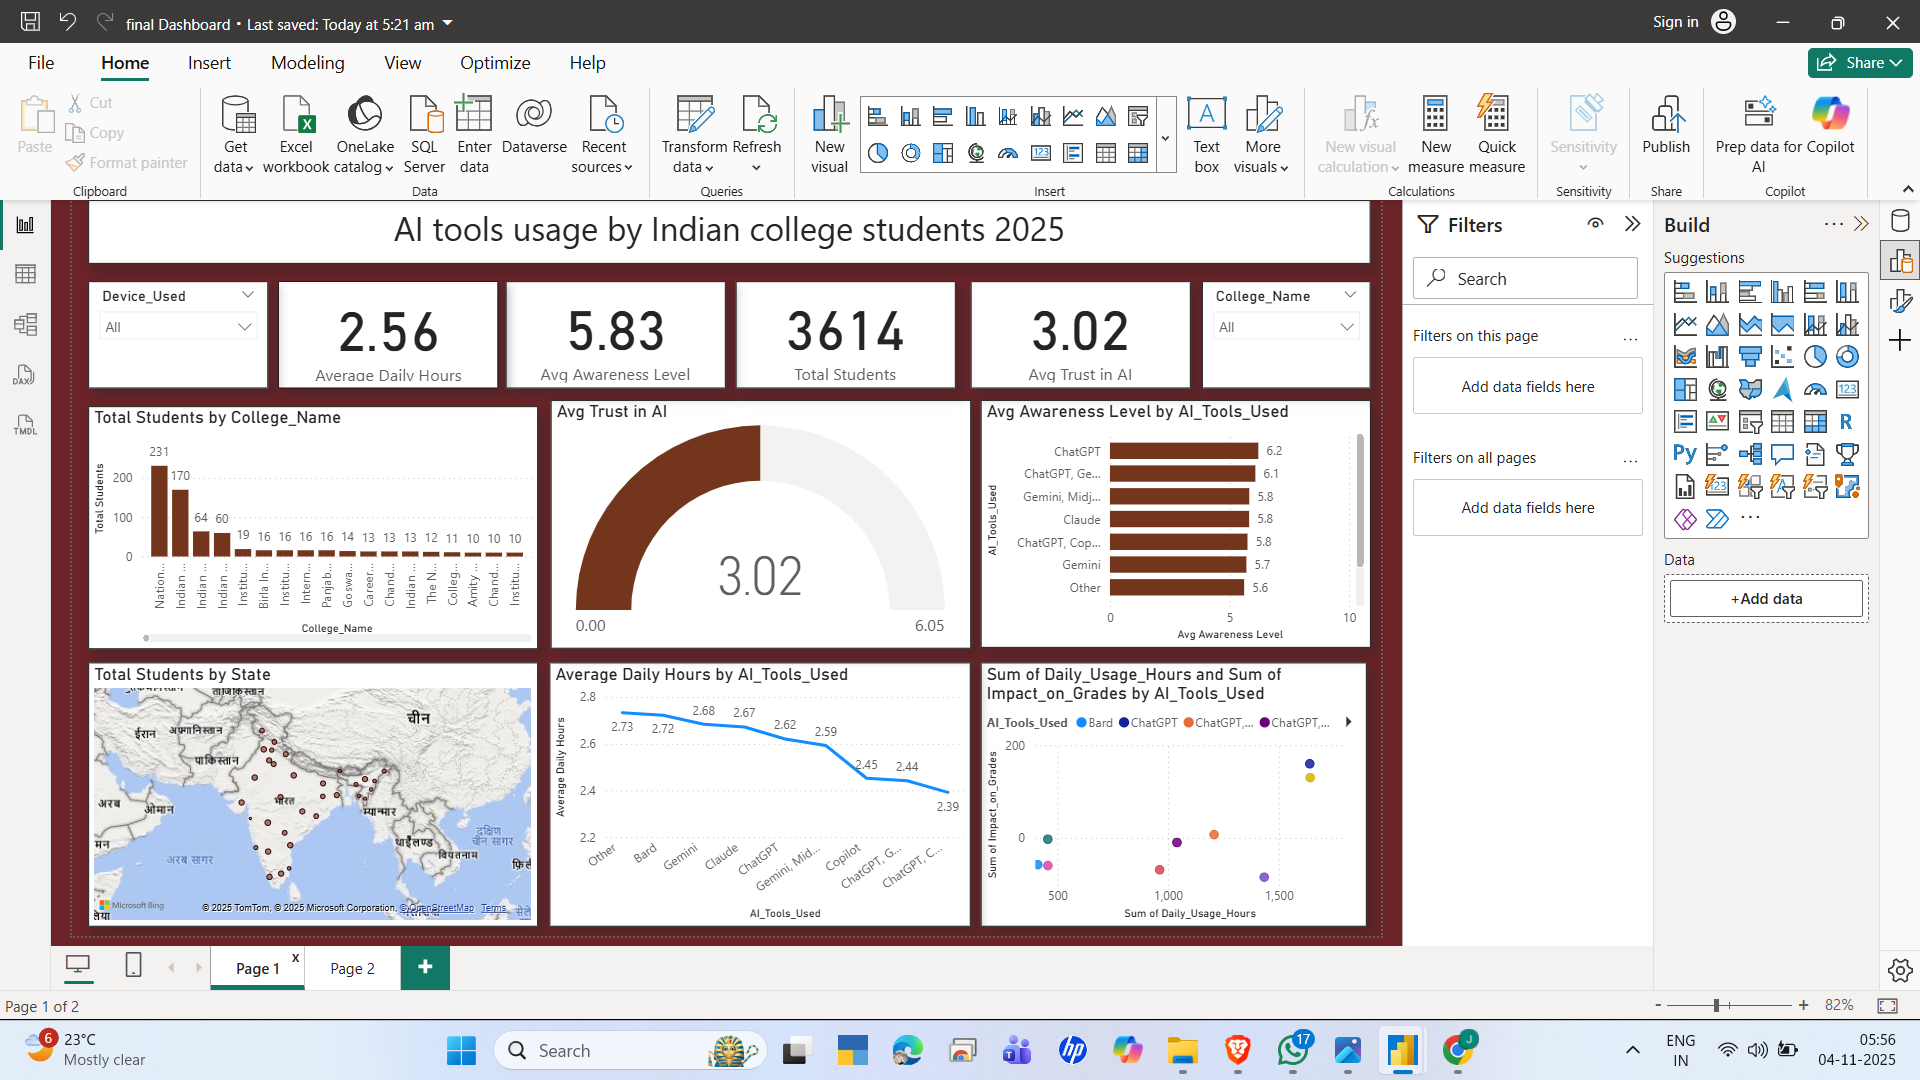

The dashboard page shown, as its layout file describes it:
{"tool":"powerbi","page":{"name":"Page 1","canvas":[1280,720],"ordinal":0},"visuals":[{"type":"clusteredColumnChart","fields":{"Category":["Hackathon Data.College_Name"],"Y":["Hackathon Data.Total Students"]},"box":[15.9,201.8,440.2,237.2],"z":0},{"type":"map","fields":{"Size":["Hackathon Data.Total Students"],"Category":["Hackathon Data.State"]},"box":[15.9,452.4,440.2,258],"z":1000},{"type":"scatterChart","fields":{"X":["Sum(Hackathon Data.Daily_Usage_Hours)"],"Y":["Sum(Hackathon Data.Impact_on_Grades)"],"Series":["Hackathon Data.AI_Tools_Used"]},"box":[889,452.4,377.9,258],"z":2000},{"type":"lineChart","fields":{"Category":["Hackathon Data.AI_Tools_Used"],"Y":["Hackathon Data.Average Daily Hours"]},"box":[467.1,452.4,412.1,258],"z":3000},{"type":"gauge","fields":{"Y":["Hackathon Data.Avg Trust in AI"]},"box":[468.3,195.7,410.9,243.3],"z":4000},{"type":"clusteredBarChart","fields":{"Category":["Hackathon Data.AI_Tools_Used"],"Y":["Hackathon Data.Avg Awareness Level"]},"box":[889,195.7,381.5,242.1],"z":5000},{"type":"card","fields":{"Values":["Hackathon Data.Avg Trust in AI"]},"box":[879.2,79.5,215.2,105.2],"z":6000},{"type":"card","fields":{"Values":["Hackathon Data.Total Students"]},"box":[649.3,79.5,215.2,105.2],"z":7000},{"type":"card","fields":{"Values":["Hackathon Data.Avg Awareness Level"]},"box":[424.3,79.5,215.2,105.2],"z":8000},{"type":"card","fields":{"Values":["Hackathon Data.Average Daily Hours"]},"box":[201.8,79.5,215.2,105.2],"z":9000},{"type":"slicer","fields":{"Values":["Hackathon Data.Device_Used"]},"box":[15.9,79.5,176.1,105.2],"z":10000},{"type":"slicer","fields":{"Values":["Hackathon Data.College_Name"]},"box":[1105.4,79.5,165.1,105.2],"z":11000},{"type":"textbox","box":[15.9,0,1254.6,62.4],"z":12000}]}

Visuals, with their boxes on the page's 1280x720 design canvas (x1, y1, x2, y2). These are canvas units, not pixel positions in the 1920x1080 screenshot, which may show the page scaled, cropped or inside an application window:
clusteredColumnChart - Hackathon Data.College_Name x Hackathon Data.Total Students: bbox(16, 202, 456, 439)
map - Hackathon Data.Total Students x Hackathon Data.State: bbox(16, 452, 456, 710)
scatterChart - Sum(Hackathon Data.Daily_Usage_Hours) x Sum(Hackathon Data.Impact_on_Grades): bbox(889, 452, 1267, 710)
lineChart - Hackathon Data.AI_Tools_Used x Hackathon Data.Average Daily Hours: bbox(467, 452, 879, 710)
gauge - Hackathon Data.Avg Trust in AI: bbox(468, 196, 879, 439)
clusteredBarChart - Hackathon Data.AI_Tools_Used x Hackathon Data.Avg Awareness Level: bbox(889, 196, 1270, 438)
card - Hackathon Data.Avg Trust in AI: bbox(879, 80, 1094, 185)
card - Hackathon Data.Total Students: bbox(649, 80, 864, 185)
card - Hackathon Data.Avg Awareness Level: bbox(424, 80, 640, 185)
card - Hackathon Data.Average Daily Hours: bbox(202, 80, 417, 185)
slicer - Hackathon Data.Device_Used: bbox(16, 80, 192, 185)
slicer - Hackathon Data.College_Name: bbox(1105, 80, 1270, 185)
textbox: bbox(16, 0, 1270, 62)
